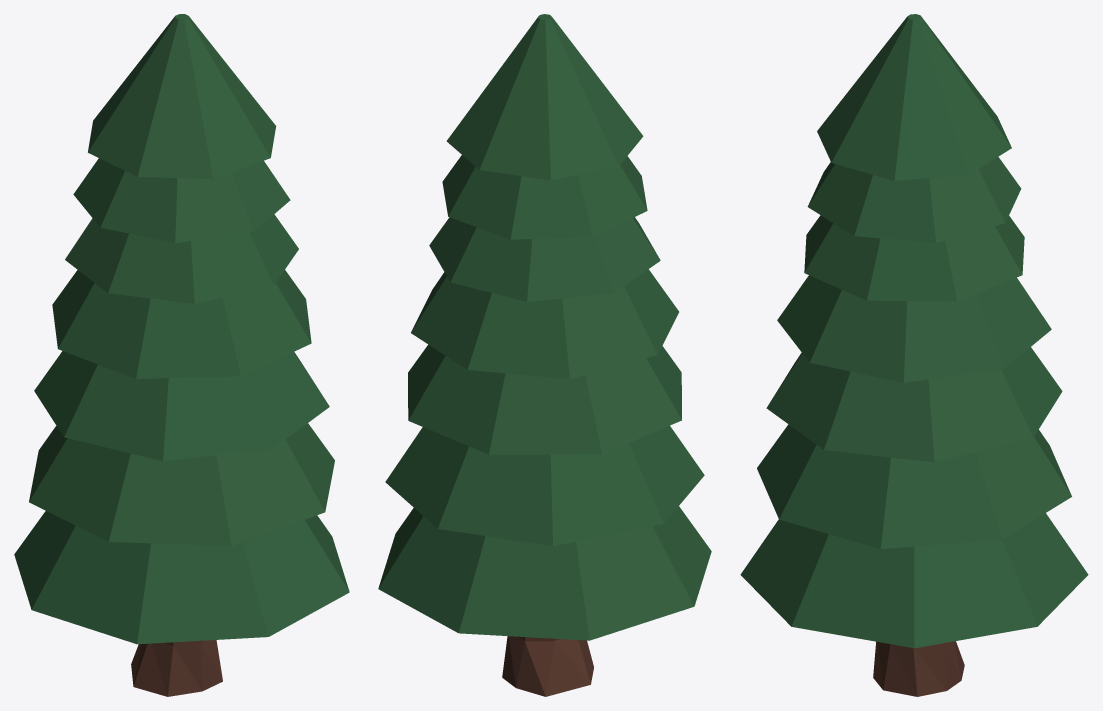
File: tree_n3.glb
3 renders of one model, left to right at view 1: azimuth 30°, elevation 25°; view 2: azimuth 150°, elevation 25°; view 3: azimuth 270°, elevation 25°, orthographic.
Parts seen in each view (by area): view 1: Object_27, Object_25; view 2: Object_27, Object_25; view 3: Object_27, Object_25.
Boxes of the visible parts, bbox=[...] form: Object_27: bbox=[14, 14, 349, 644]; Object_25: bbox=[131, 640, 222, 696]; Object_27: bbox=[378, 14, 711, 640]; Object_25: bbox=[502, 636, 593, 696]; Object_27: bbox=[740, 14, 1088, 648]; Object_25: bbox=[873, 641, 964, 696].
Bounding box in the file's own units: 5.25 × 11 × 5.25.
